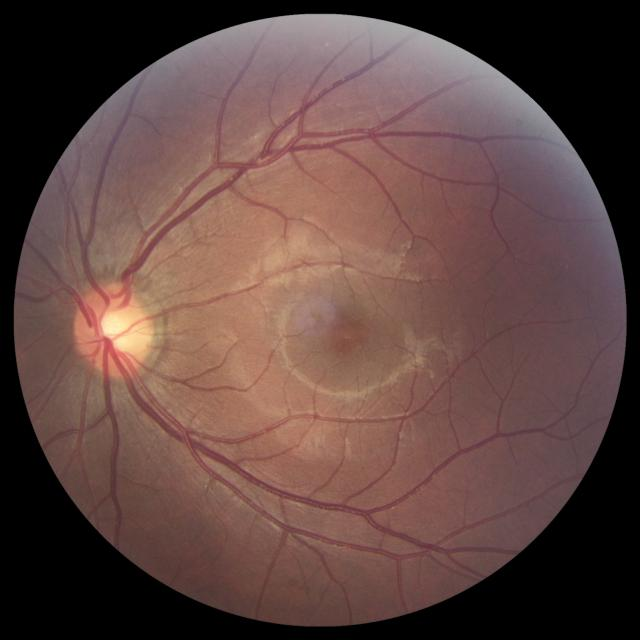OC: (99, 309, 138, 353)
OD: (72, 282, 154, 375)
